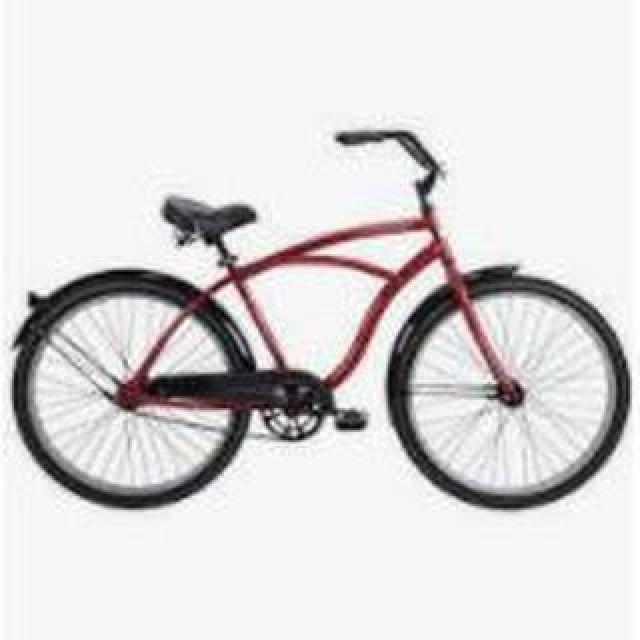Person: (10, 121, 640, 515)
